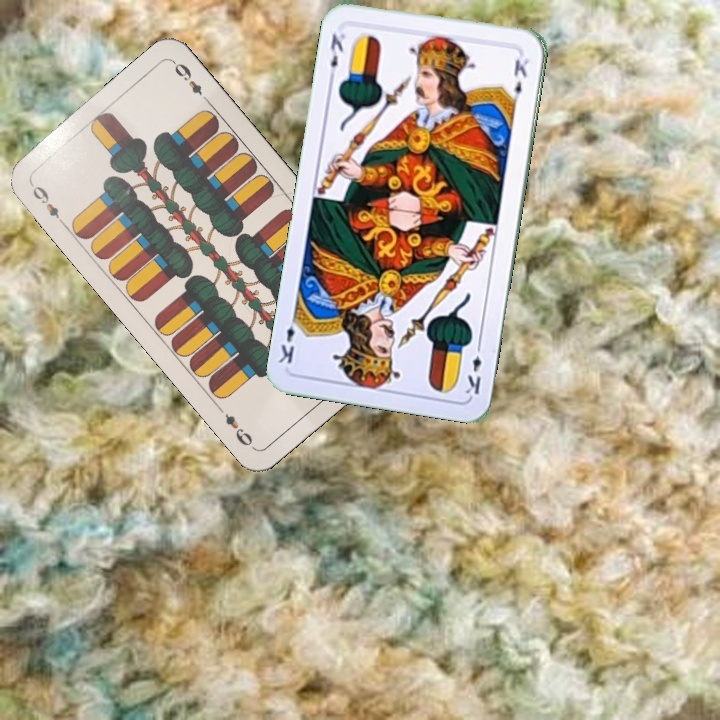E9: (26, 179, 68, 228)
EK: (461, 338, 484, 397), (325, 30, 348, 81)
